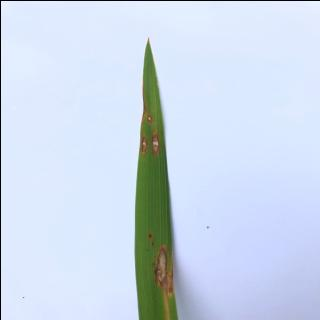Blast: (153, 242, 168, 286), (164, 253, 174, 296), (149, 131, 161, 155), (140, 84, 146, 120), (138, 131, 146, 155), (146, 112, 152, 125), (146, 230, 154, 239)
